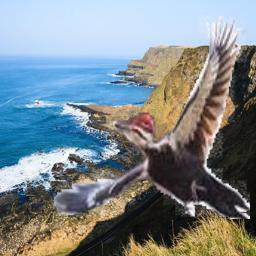Woodpecker: (53, 11, 250, 219)
